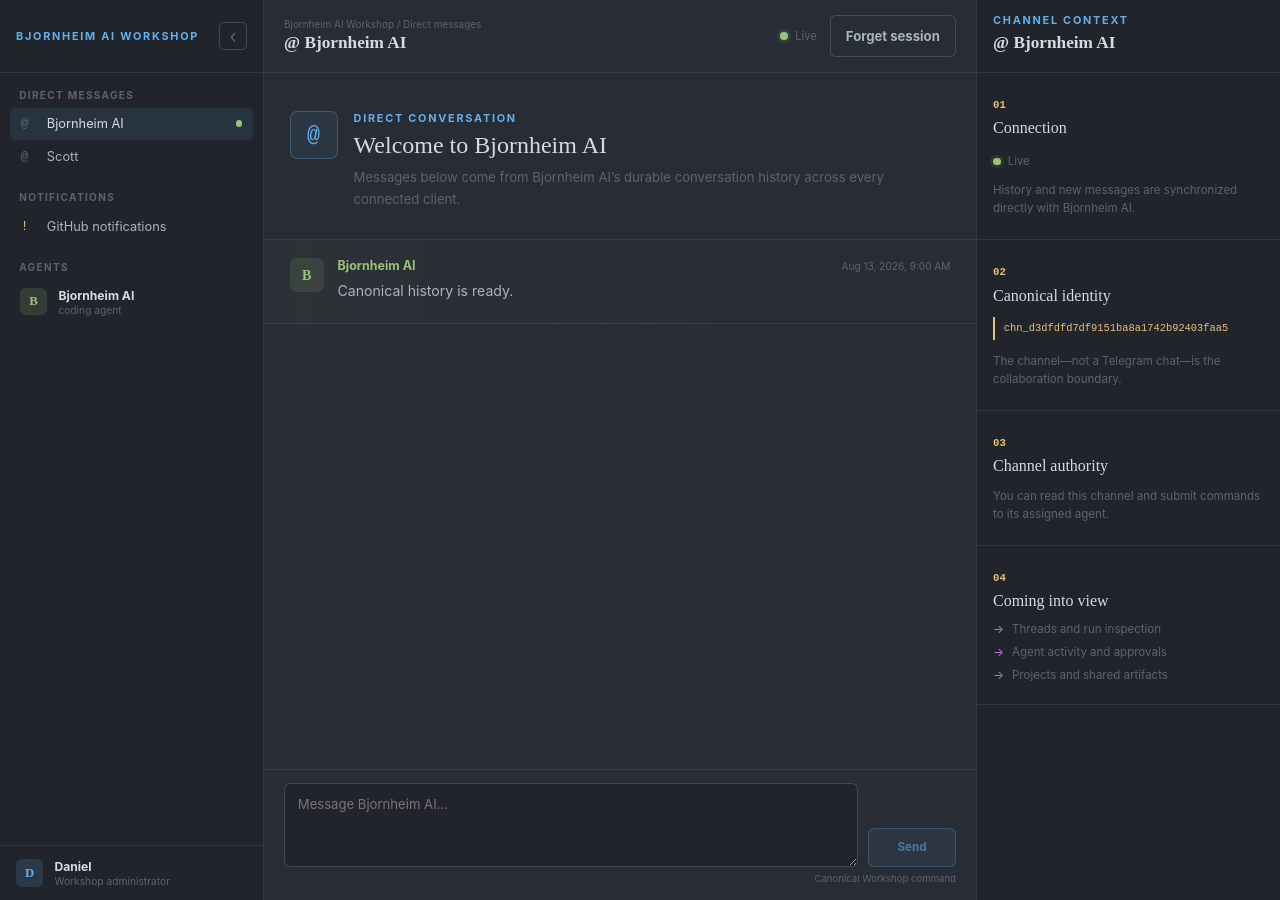
Test: Workshop React client › accepts work asynchronously and exposes an exact run Stop control
Check: the text "Canonical history is ready." is shown, box [338,282,513,299]
Type "Take your time" into the text box labelled "Message Bjornheim AI". click: (571, 825)
box: [284,783,858,867]
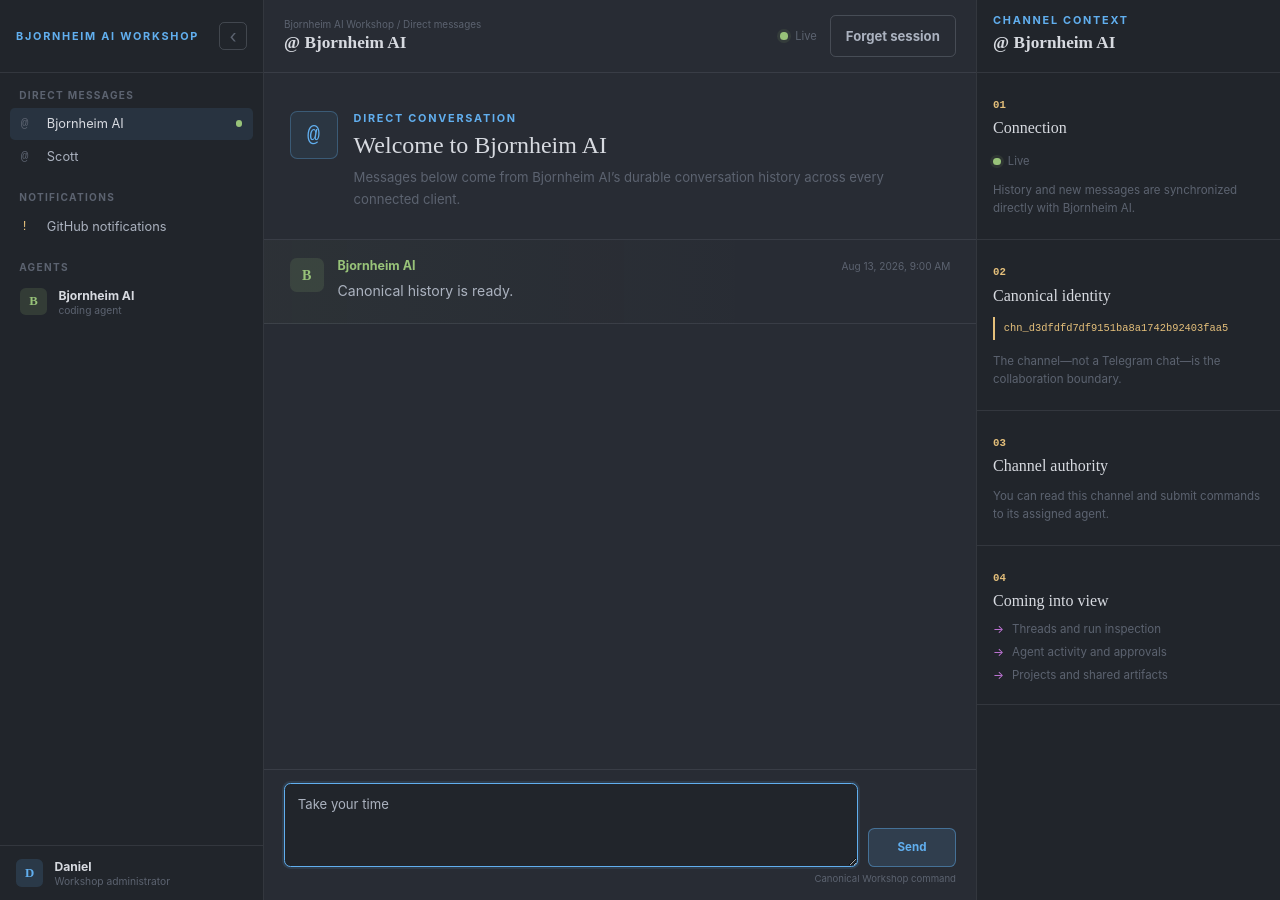
Click the button "Send". click: (912, 847)
box: [868,828,956,867]
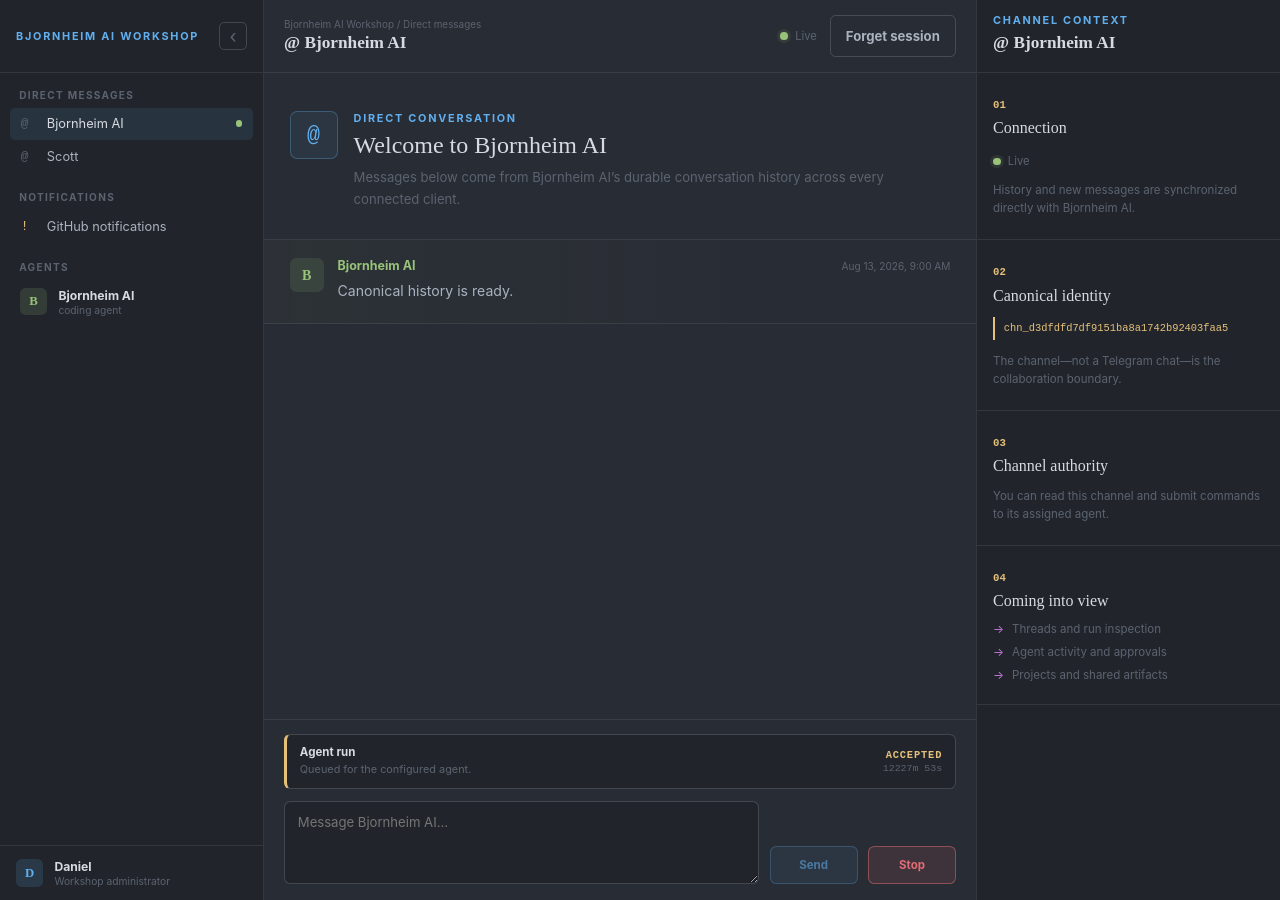
Check: the text "accepted" is shown, box [886,749,942,761]
Check: the text box labelled "Message Bjornheim AI" is empty, box [284,801,759,884]
Click the button "Stop". click: (912, 865)
box: [868,846,956,884]
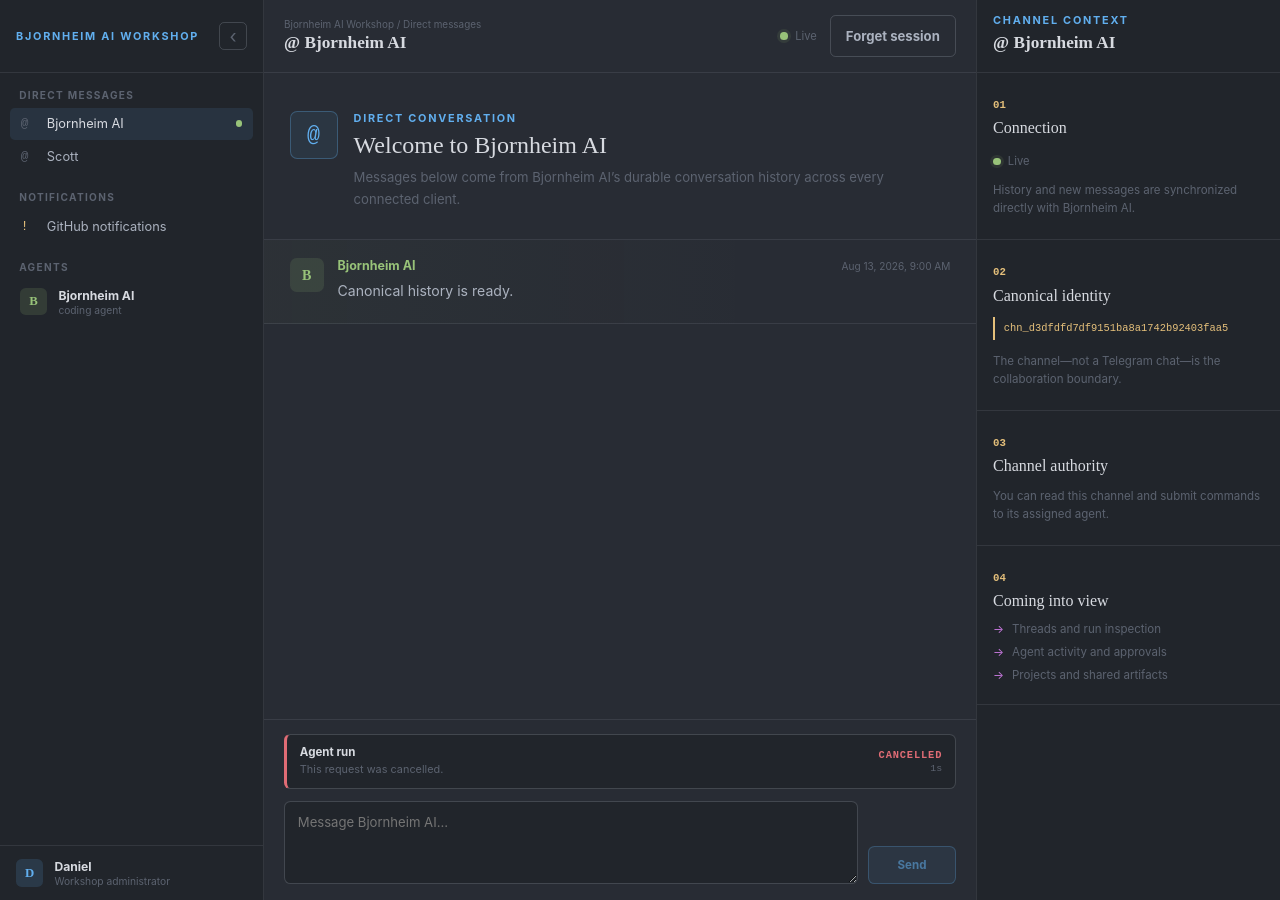
Check: the text "cancelled" is shown, box [879,749,942,761]
